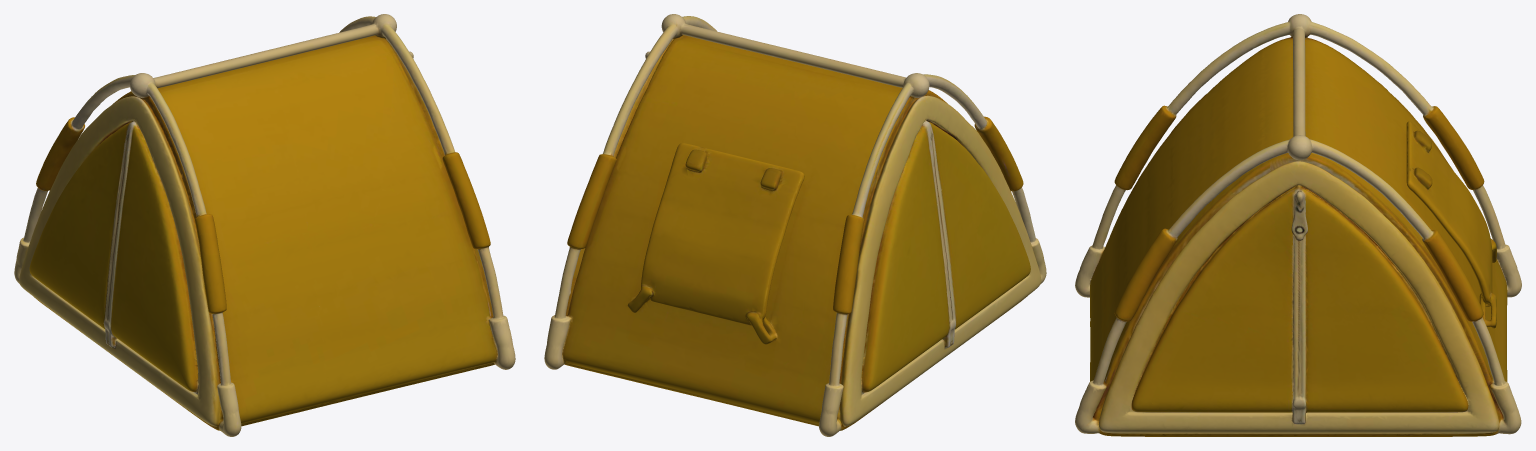
Rendered from CampTentClosed.glb.
The picture shows the model from 3 angles, left to right: view 1: azimuth 30°, elevation 25°; view 2: azimuth 150°, elevation 25°; view 3: azimuth 270°, elevation 25°; orthographic projection. The views are drawn at different scales.
Visible parts, largest first — view 1: tripo_node_71ac9e07-34d4-47fa-86ca-71379a3ab048; view 2: tripo_node_71ac9e07-34d4-47fa-86ca-71379a3ab048; view 3: tripo_node_71ac9e07-34d4-47fa-86ca-71379a3ab048.
Part boxes in pixels (x1,y1,x2,y2): tripo_node_71ac9e07-34d4-47fa-86ca-71379a3ab048: [14, 14, 515, 436]; tripo_node_71ac9e07-34d4-47fa-86ca-71379a3ab048: [544, 14, 1046, 436]; tripo_node_71ac9e07-34d4-47fa-86ca-71379a3ab048: [1075, 14, 1521, 436].
Size of the model in its own units: 0.8436 by 0.718 by 1.
Materials: 1 (1 with a texture image).
